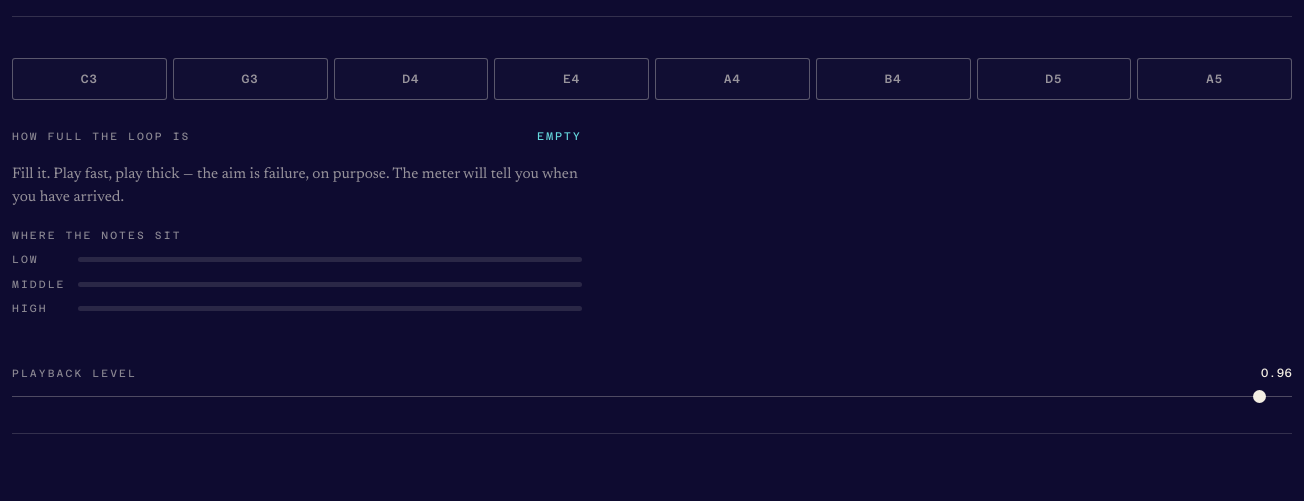
it: AvoidingMud › boots hot on the mud preset and the phase advances only when measured
Press the mouse on the button "C3" at coordinates (89, 79), box [12, 58, 167, 100]
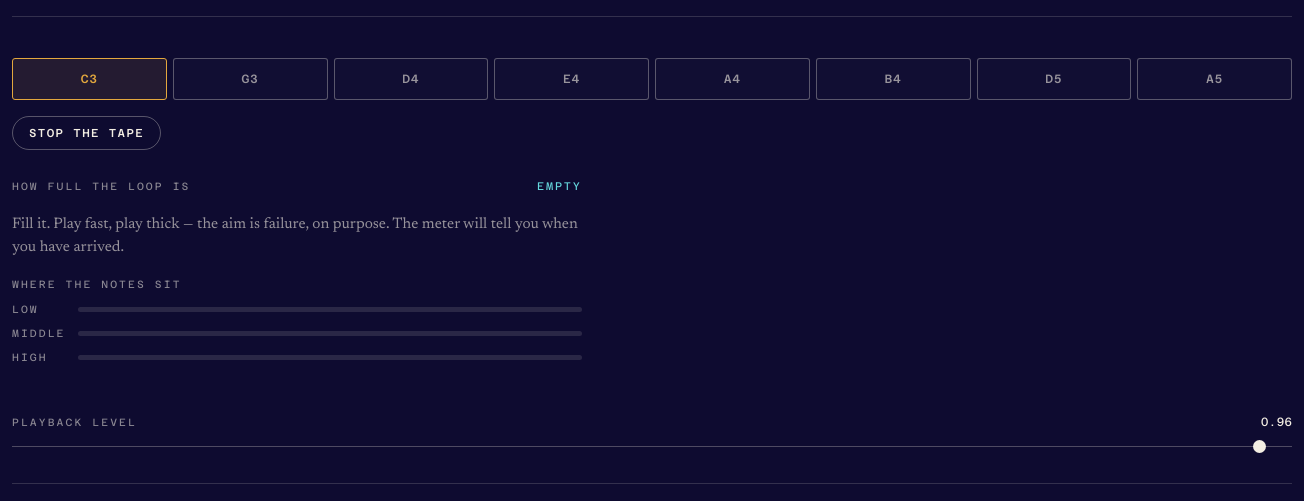
Check: the text "aim is failure" is shown, box [12, 217, 578, 254]
Press the mouse on the button "A4" at coordinates (732, 79), box [655, 58, 810, 100]
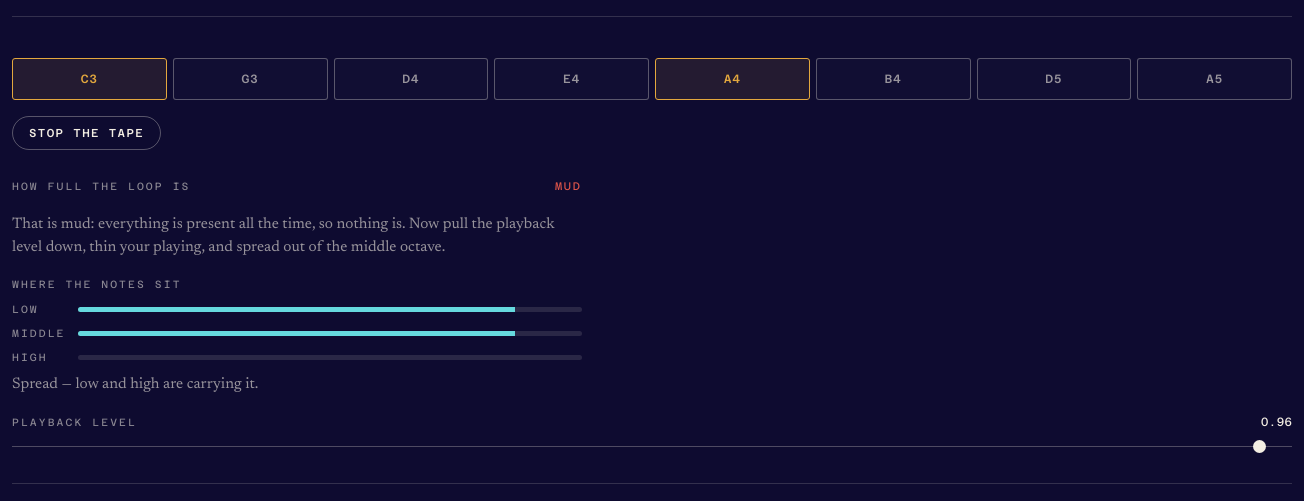
Check: the text "That is mud" is shown, box [12, 217, 555, 254]
Check: the text "mud" is shown, box [555, 178, 582, 196]
